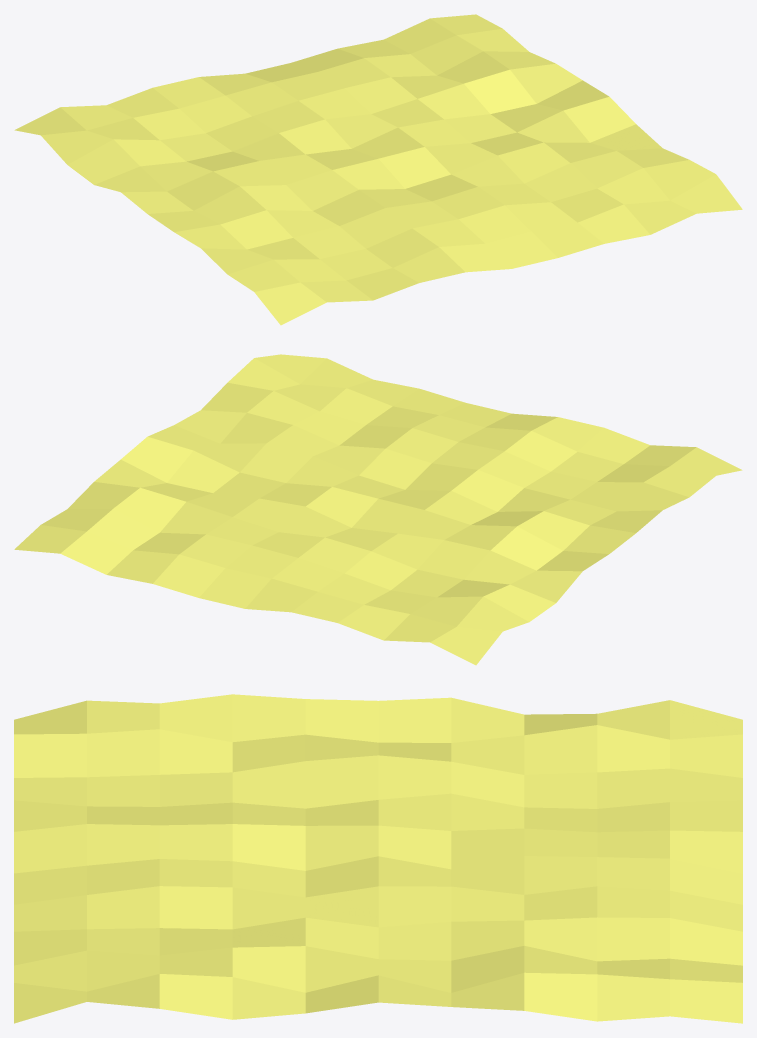
The model's file is terrain2b2.fbx.
3 renders of one model, top to bottom at view 1: azimuth 30°, elevation 25°; view 2: azimuth 150°, elevation 25°; view 3: azimuth 270°, elevation 25°, orthographic. The views are drawn at different scales.
Visible parts, largest first — view 1: Plane.008; view 2: Plane.008; view 3: Plane.008.
Part boxes in pixels (x1,y1,x2,y2): Plane.008: [14, 14, 742, 325]; Plane.008: [14, 354, 742, 665]; Plane.008: [14, 694, 742, 1023].
Bounding box in the file's own units: 2000 × 79.31 × 2000.
